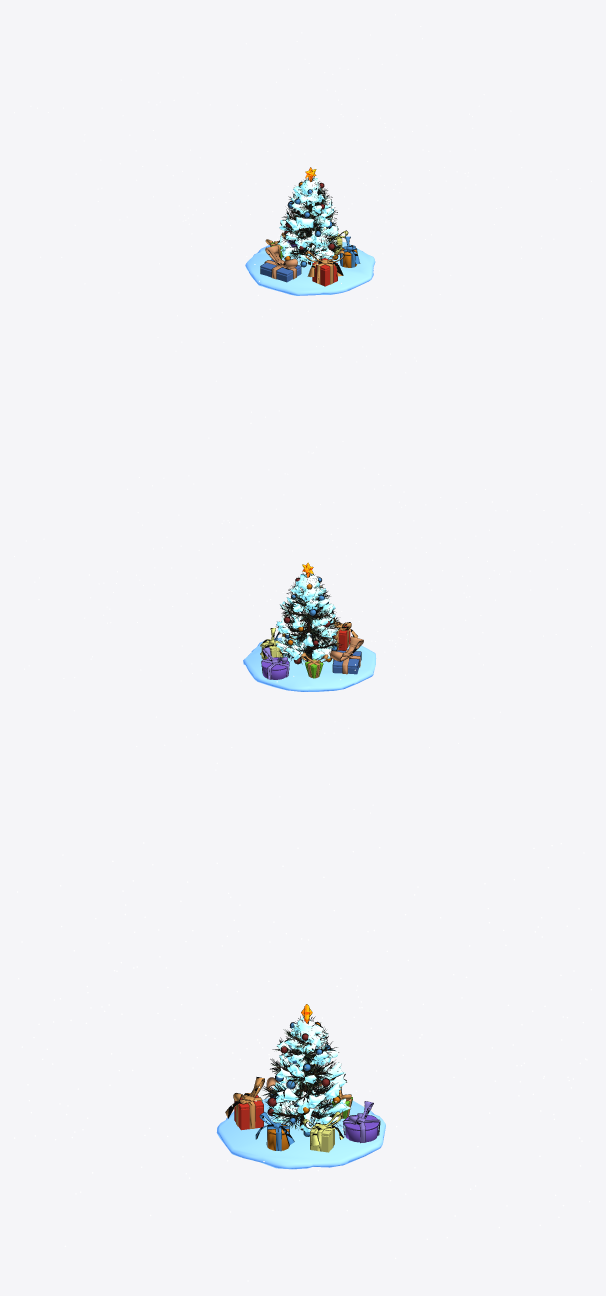
The model's file is tree.opt.glb.
3 views of the same model, one above another, from view 1: azimuth 30°, elevation 25°; view 2: azimuth 150°, elevation 25°; view 3: azimuth 270°, elevation 25° (orthographic). The views are drawn at different scales.
Parts seen in each view (by area): view 1: SnowBall.001_29, SnowBall.002_355, leaves_30; view 2: SnowBall.002_355, SnowBall.001_29, leaves_30; view 3: SnowBall.002_355, SnowBall.001_29, leaves_30, tree_31.
Boxes of the visible parts, bbox=[...] form: SnowBall.001_29: bbox=[277, 178, 338, 265]; SnowBall.002_355: bbox=[245, 241, 375, 295]; leaves_30: bbox=[280, 176, 342, 262]; SnowBall.002_355: bbox=[243, 634, 376, 691]; SnowBall.001_29: bbox=[275, 574, 339, 660]; leaves_30: bbox=[276, 573, 342, 664]; SnowBall.002_355: bbox=[216, 1098, 385, 1169]; SnowBall.001_29: bbox=[270, 1017, 350, 1132]; leaves_30: bbox=[262, 1015, 341, 1129]; tree_31: bbox=[271, 1036, 333, 1130].
Bounding box in the file's own units: 38.68 × 17.72 × 38.77.
23 materials, 2 textured.
